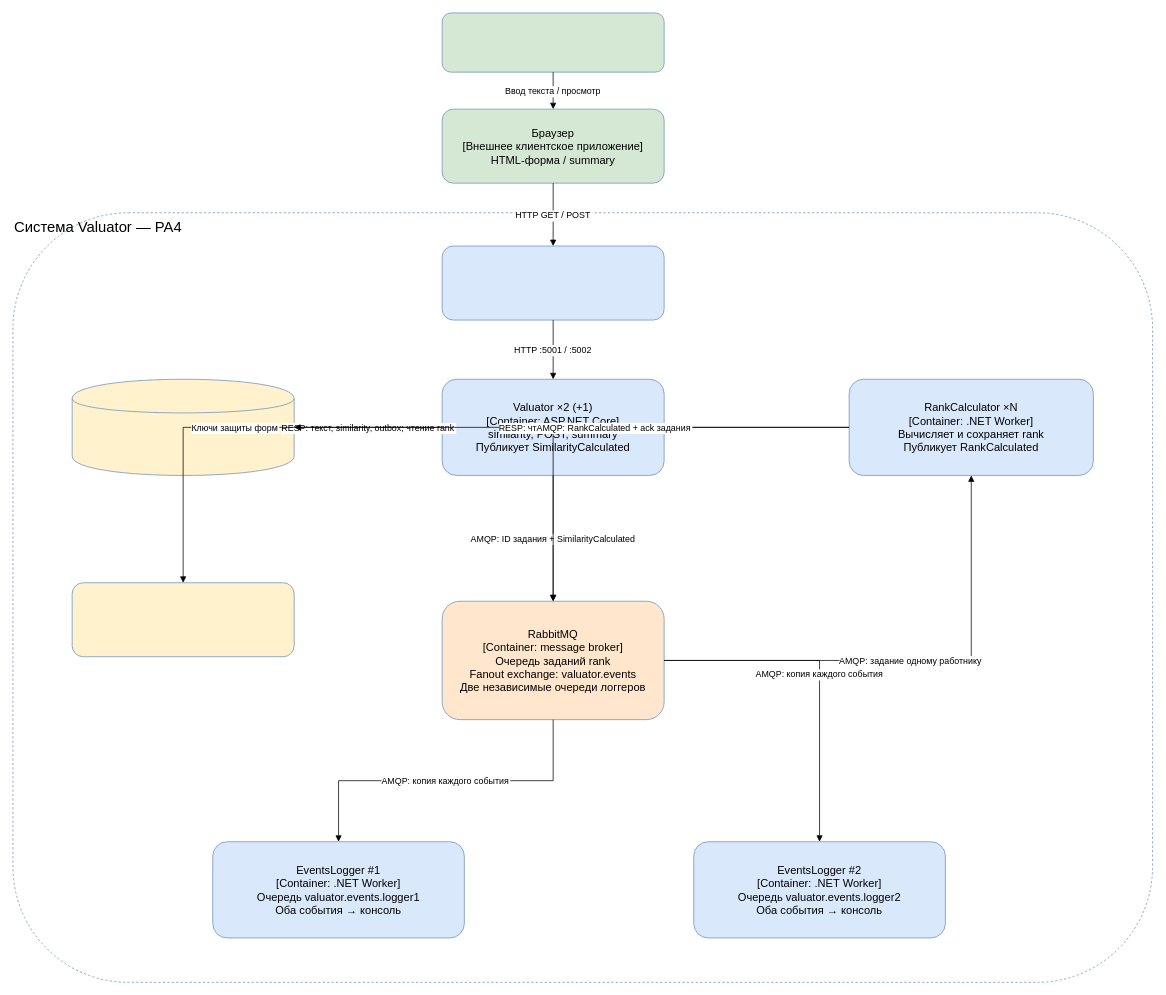
This 1166x995 diagram has some shape labels left out. Here are the shapes that lost their labels. From the top down, the centre of each, then its label:
pixel 552 42: Пользователь [Person]
pixel 552 282: Nginx [Container: reverse proxy] Балансировка HTTP :8080
pixel 182 427: Redis [Container: key-value database] Тексты, метрики, outbox
pixel 182 619: Общие ключи защиты форм [Filesystem / Docker volume]
